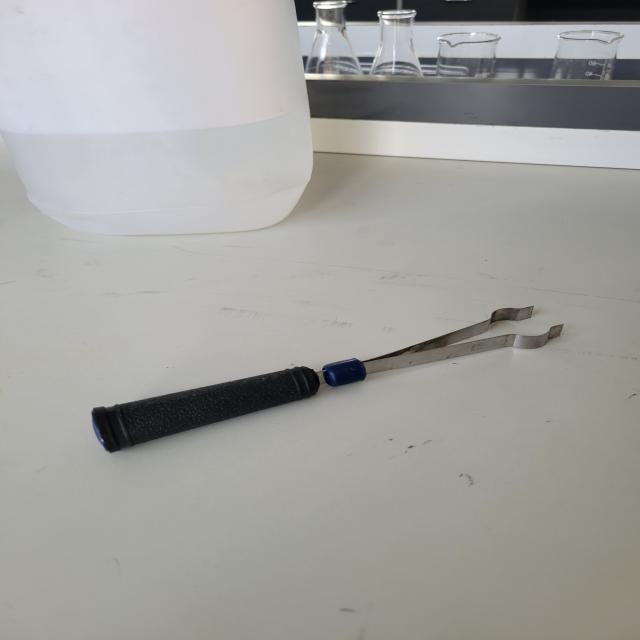TestTube_Holder: (64, 276, 585, 476)
